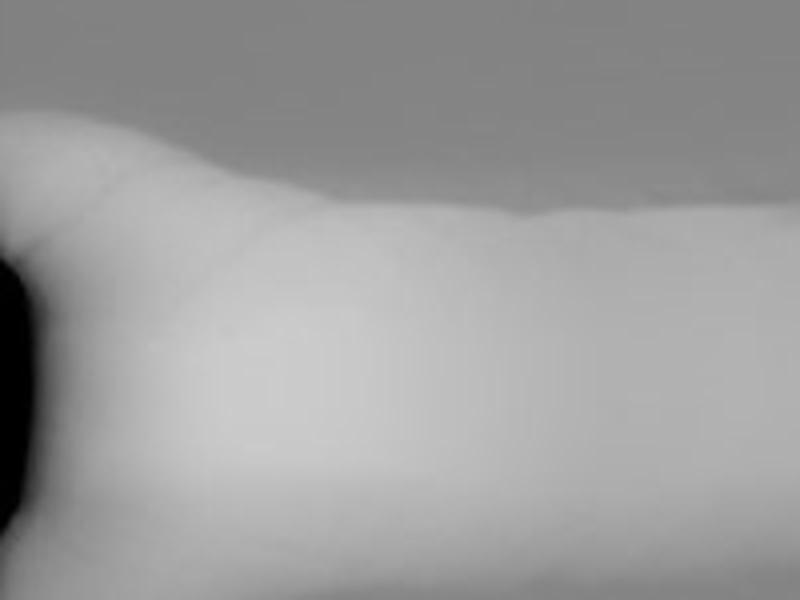defect: (2, 256, 34, 536)
